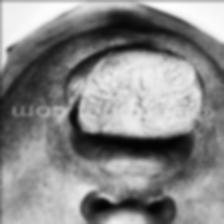Unclassified: (75, 116, 189, 148), (91, 62, 197, 96)
